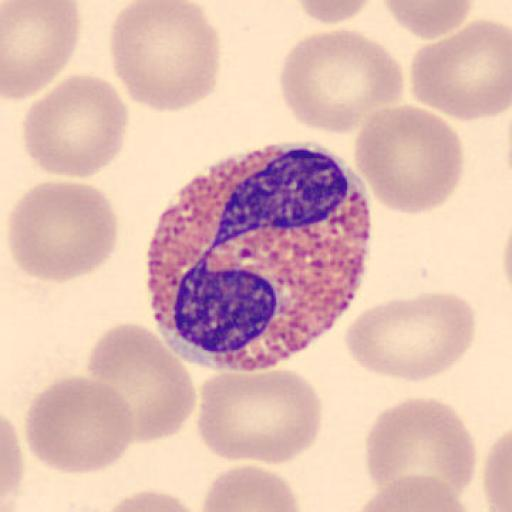RBC: (84, 322, 196, 446), (278, 28, 406, 136), (108, 0, 222, 114), (196, 366, 324, 466), (343, 291, 478, 385), (354, 102, 464, 215), (364, 396, 478, 502), (20, 71, 129, 180), (7, 179, 120, 284), (22, 375, 136, 476), (409, 17, 512, 123), (0, 0, 82, 100), (199, 464, 303, 512), (354, 472, 473, 512), (381, 0, 474, 41), (0, 413, 26, 512), (100, 488, 206, 512), (482, 429, 512, 512), (296, 0, 375, 24)
WBC: (143, 147, 372, 371), (152, 232, 366, 372)
